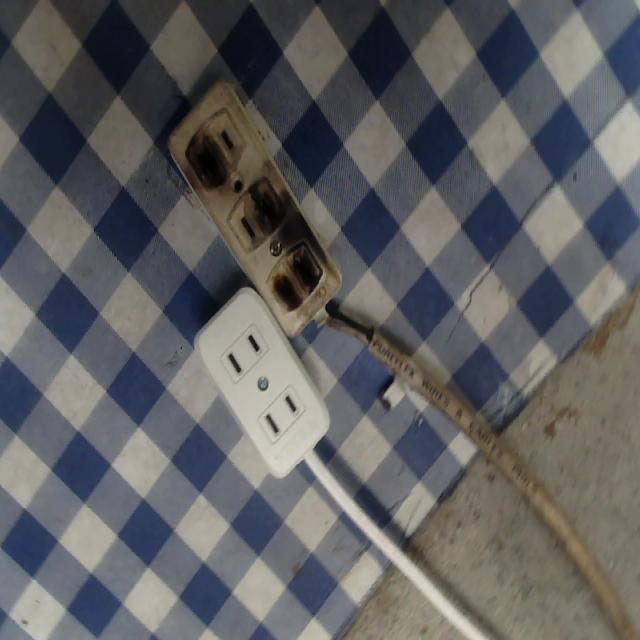-: (266, 242, 330, 318), (177, 120, 234, 196), (242, 169, 295, 232)
